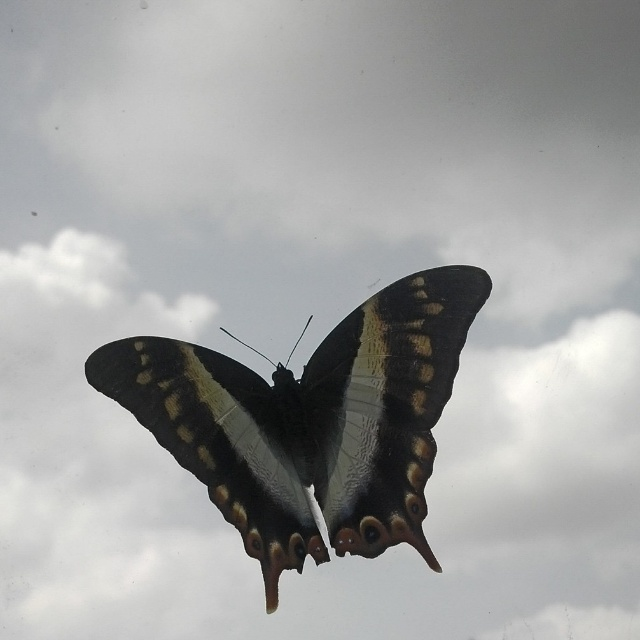Butterfly: (71, 257, 502, 584)
